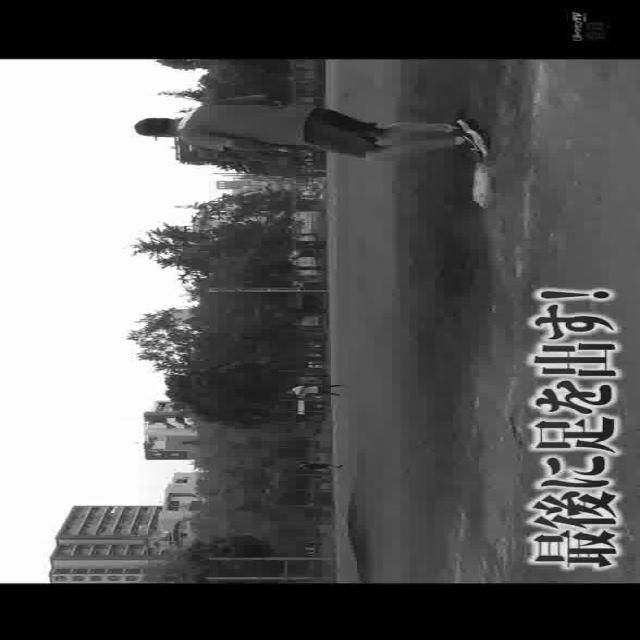base: (472, 162, 500, 208)
shoe: (456, 130, 494, 158), (446, 115, 478, 142)
